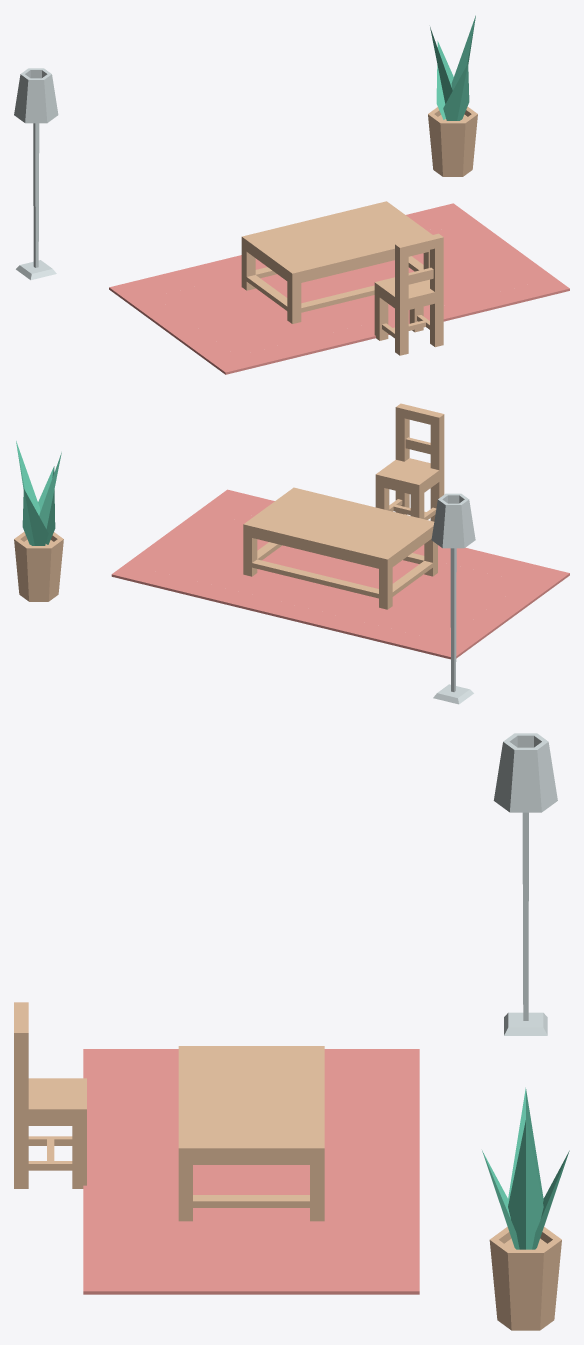
The model's file is home-furniture-set.glb.
3 views of the same model, one above another, from view 1: azimuth 30°, elevation 25°; view 2: azimuth 150°, elevation 25°; view 3: azimuth 270°, elevation 25° (orthographic). The views are drawn at different scales.
Visible parts, largest first — view 1: home-furniture-set__part__rugrectangle, home-furniture-set__part__tablecoffee, home-furniture-set__part__chair, home-furniture-set__part__lamproundfloor, home-furniture-set__part__pottedplant, plant; view 2: home-furniture-set__part__rugrectangle, home-furniture-set__part__tablecoffee, home-furniture-set__part__chair, home-furniture-set__part__lamproundfloor, home-furniture-set__part__pottedplant, plant; view 3: home-furniture-set__part__rugrectangle, home-furniture-set__part__tablecoffee, home-furniture-set__part__chair, home-furniture-set__part__lamproundfloor, home-furniture-set__part__pottedplant, plant.
Boxes of the visible parts, x1,y1,x2,y2 form: home-furniture-set__part__rugrectangle: [109, 203, 569, 374]; home-furniture-set__part__tablecoffee: [241, 201, 432, 323]; home-furniture-set__part__chair: [374, 233, 443, 355]; home-furniture-set__part__lamproundfloor: [14, 68, 58, 280]; home-furniture-set__part__pottedplant: [428, 106, 477, 176]; plant: [430, 15, 475, 120]; home-furniture-set__part__rugrectangle: [111, 489, 569, 659]; home-furniture-set__part__tablecoffee: [243, 487, 437, 609]; home-furniture-set__part__chair: [375, 403, 444, 521]; home-furniture-set__part__lamproundfloor: [431, 493, 475, 704]; home-furniture-set__part__pottedplant: [14, 531, 63, 601]; plant: [16, 441, 61, 545]; home-furniture-set__part__rugrectangle: [83, 1049, 419, 1294]; home-furniture-set__part__tablecoffee: [178, 1046, 324, 1221]; home-furniture-set__part__chair: [14, 1002, 86, 1188]; home-furniture-set__part__lamproundfloor: [493, 733, 557, 1035]; home-furniture-set__part__pottedplant: [489, 1226, 561, 1330]; plant: [482, 1087, 569, 1249].
Bounding box in the file's own units: 2.08 × 0.86 × 1.52.
